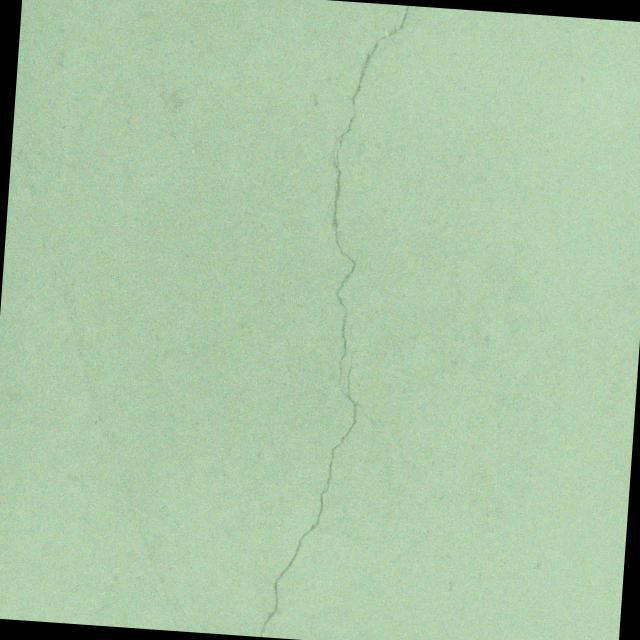crack: (258, 0, 409, 640)
